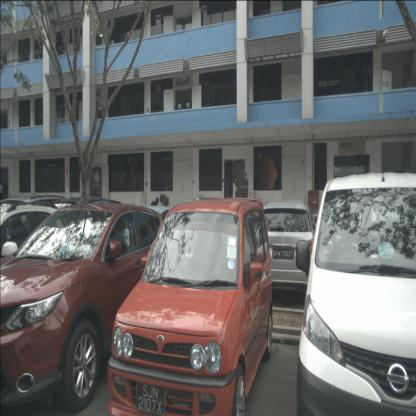human-pedestrian-adult: (240, 172, 248, 208), (232, 177, 238, 208)
vehicle-car: (0, 203, 177, 414), (108, 196, 272, 413), (296, 172, 415, 415), (0, 200, 72, 296), (256, 201, 315, 306)
